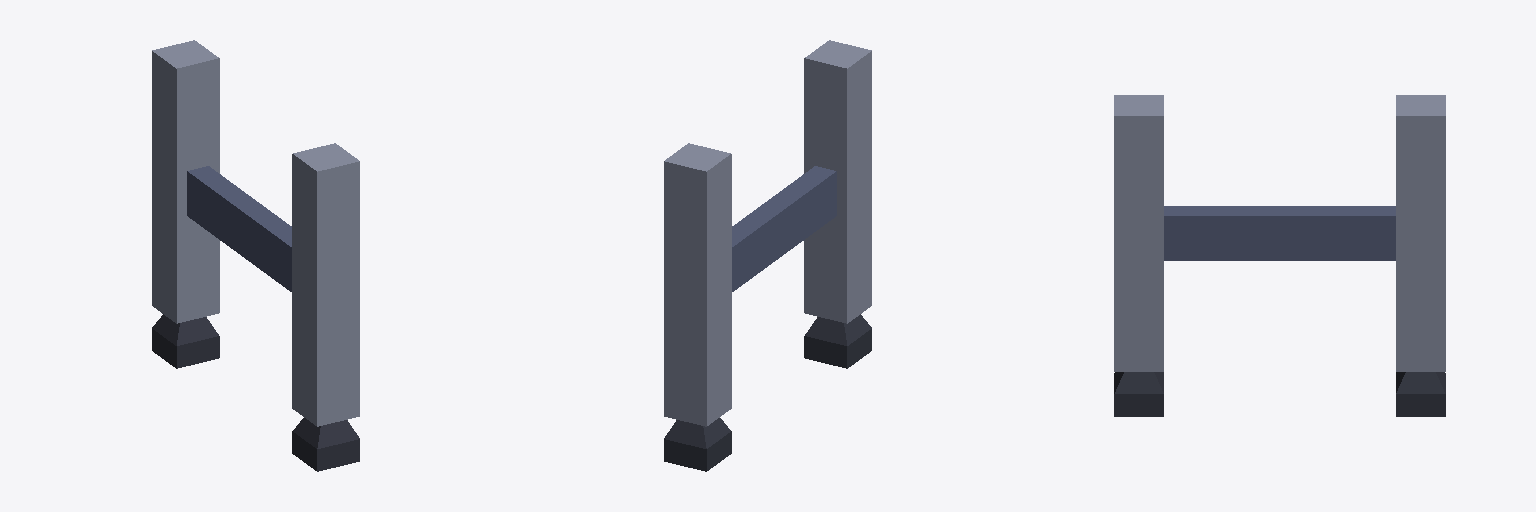
The model's file is structure-medium.obj.
3 renders of one model, left to right at view 1: azimuth 30°, elevation 25°; view 2: azimuth 150°, elevation 25°; view 3: azimuth 270°, elevation 25°, orthographic.
Parts seen in each view (by area): view 1: structure-medium; view 2: structure-medium; view 3: structure-medium.
Part boxes in pixels (bbox=[...]): structure-medium: bbox=[152, 40, 359, 471]; structure-medium: bbox=[664, 40, 871, 471]; structure-medium: bbox=[1114, 95, 1445, 416].
Bounding box in the file's own units: 0.15 × 1 × 1.